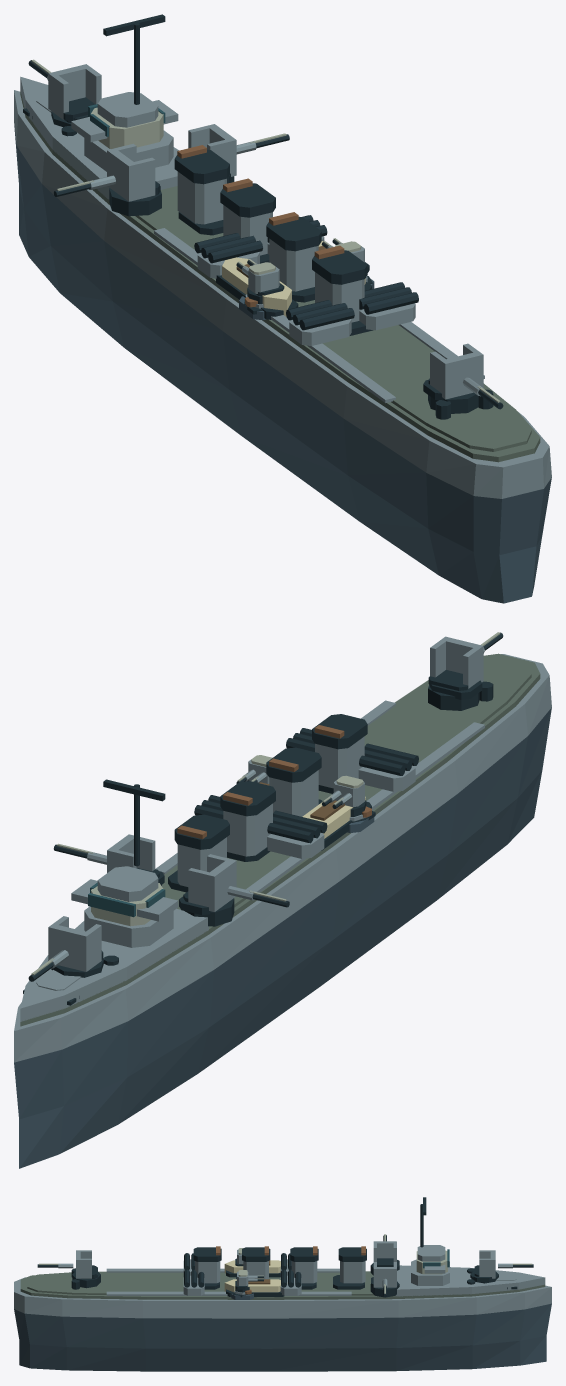
Rendered from historic-sampson.glb.
3 views of the same model, one above another, from view 1: azimuth 30°, elevation 25°; view 2: azimuth 150°, elevation 25°; view 3: azimuth 270°, elevation 25° (orthographic). The views are drawn at different scales.
Parts seen in each view (by area): view 1: historic-sampson-historic-sampson-geometry, historic-sampson-part_bridge.118-geometry, historic-sampson-historic_funnel_0.111-geometry, historic-sampson-turret_main_2.066-geometry, historic-sampson-historic_funnel_2.007-geometry, historic-sampson-turret_main_1.080-geometry, historic-sampson-historic_funnel_3.004-geometry, historic-sampson-historic_funnel_1.061-geometry, historic-sampson-turret_main_0.087-geometry, historic-sampson-torpedo_bank_0.027-geometry, historic-sampson-torpedo_bank_1.024-geometry, historic-sampson-torpedo_bank_2.005-geometry (+2 smaller); view 2: historic-sampson-historic-sampson-geometry, historic-sampson-part_bridge.118-geometry, historic-sampson-turret_main_1.080-geometry, historic-sampson-historic_funnel_1.061-geometry, historic-sampson-turret_main_2.066-geometry, historic-sampson-historic_funnel_3.004-geometry, historic-sampson-historic_funnel_2.007-geometry, historic-sampson-turret_main_0.087-geometry, historic-sampson-historic_funnel_0.111-geometry, historic-sampson-torpedo_bank_2.005-geometry, historic-sampson-torpedo_bank_0.027-geometry, historic-sampson-turret_main_3.041-geometry (+1 smaller); view 3: historic-sampson-historic-sampson-geometry, historic-sampson-part_bridge.118-geometry, historic-sampson-historic_funnel_0.111-geometry, historic-sampson-historic_funnel_1.061-geometry, historic-sampson-historic_funnel_3.004-geometry, historic-sampson-turret_main_1.080-geometry, historic-sampson-turret_main_0.087-geometry, historic-sampson-turret_main_3.041-geometry, historic-sampson-historic_funnel_2.007-geometry, historic-sampson-turret_main_2.066-geometry, historic-sampson-torpedo_bank_1.024-geometry, historic-sampson-torpedo_bank_3.002-geometry (+1 smaller).
Part boxes in pixels (<box>): historic-sampson-historic-sampson-geometry: <box>14,76,551,603</box>; historic-sampson-part_bridge.118-geometry: <box>71,14,178,171</box>; historic-sampson-historic_funnel_0.111-geometry: <box>174,145,229,235</box>; historic-sampson-turret_main_2.066-geometry: <box>54,143,161,216</box>; historic-sampson-historic_funnel_2.007-geometry: <box>266,212,321,302</box>; historic-sampson-turret_main_1.080-geometry: <box>423,343,503,413</box>; historic-sampson-historic_funnel_3.004-geometry: <box>312,245,373,335</box>; historic-sampson-historic_funnel_1.061-geometry: <box>220,178,275,263</box>; historic-sampson-turret_main_0.087-geometry: <box>28,59,101,127</box>; historic-sampson-torpedo_bank_0.027-geometry: <box>286,300,354,345</box>; historic-sampson-torpedo_bank_1.024-geometry: <box>359,282,418,330</box>; historic-sampson-torpedo_bank_2.005-geometry: <box>194,233,262,278</box>; historic-sampson-historic-sampson-geometry: <box>14,653,551,1168</box>; historic-sampson-part_bridge.118-geometry: <box>71,779,178,947</box>; historic-sampson-turret_main_1.080-geometry: <box>428,632,503,710</box>; historic-sampson-historic_funnel_1.061-geometry: <box>220,781,275,861</box>; historic-sampson-turret_main_2.066-geometry: <box>179,854,289,926</box>; historic-sampson-historic_funnel_3.004-geometry: <box>312,714,367,793</box>; historic-sampson-historic_funnel_2.007-geometry: <box>266,747,322,816</box>; historic-sampson-turret_main_0.087-geometry: <box>28,916,103,981</box>; historic-sampson-historic_funnel_0.111-geometry: <box>168,814,229,892</box>; historic-sampson-torpedo_bank_2.005-geometry: <box>267,810,327,858</box>; historic-sampson-torpedo_bank_0.027-geometry: <box>358,743,418,791</box>; historic-sampson-turret_main_3.041-geometry: <box>53,834,164,885</box>; historic-sampson-historic-sampson-geometry: <box>14,1260,551,1371</box>; historic-sampson-part_bridge.118-geometry: <box>411,1197,449,1285</box>; historic-sampson-historic_funnel_0.111-geometry: <box>333,1246,366,1289</box>; historic-sampson-historic_funnel_1.061-geometry: <box>290,1246,318,1289</box>; historic-sampson-historic_funnel_3.004-geometry: <box>193,1246,221,1289</box>; historic-sampson-turret_main_1.080-geometry: <box>37,1250,100,1288</box>; historic-sampson-turret_main_0.087-geometry: <box>470,1250,533,1283</box>; historic-sampson-turret_main_3.041-geometry: <box>370,1262,399,1297</box>; historic-sampson-historic_funnel_2.007-geometry: <box>236,1246,270,1279</box>; historic-sampson-turret_main_2.066-geometry: <box>370,1234,399,1275</box>; historic-sampson-torpedo_bank_1.024-geometry: <box>183,1269,204,1295</box>; historic-sampson-torpedo_bank_3.002-geometry: <box>280,1269,301,1295</box>.
Size of the model in its own units: 1.09 by 1.32 by 4.11.
